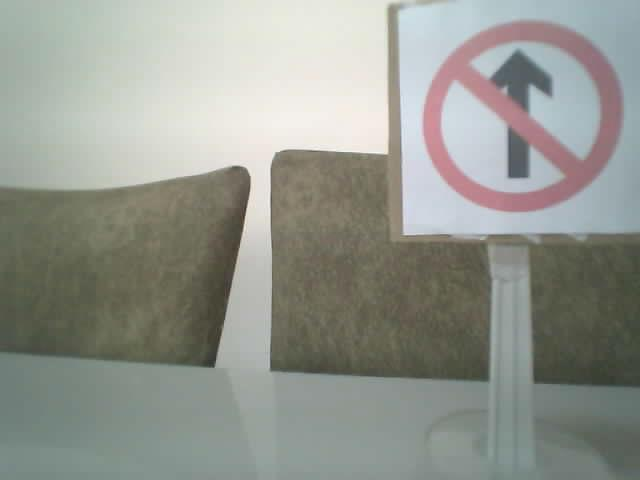R-3_sentido-proibido: (421, 19, 621, 213)
